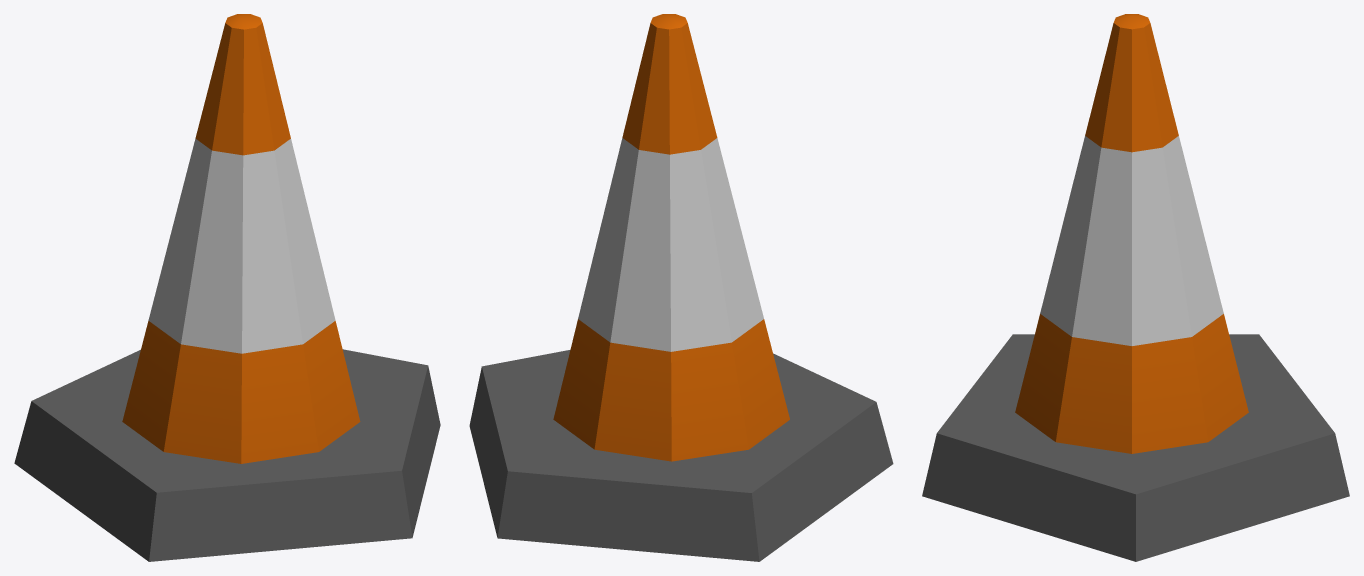
File: Traffic Cone.fbx
The picture shows the model from 3 angles, left to right: view 1: azimuth 30°, elevation 25°; view 2: azimuth 150°, elevation 25°; view 3: azimuth 270°, elevation 25°; orthographic projection.
Parts seen in each view (by area): view 1: pCylinder2; view 2: pCylinder2; view 3: pCylinder2.
Boxes of the visible parts, x1,y1,x2,y2 form: pCylinder2: (14, 14, 440, 561); pCylinder2: (469, 14, 893, 561); pCylinder2: (922, 14, 1349, 561).
Bounding box in the file's own units: 62.59 × 76.24 × 65.81.
